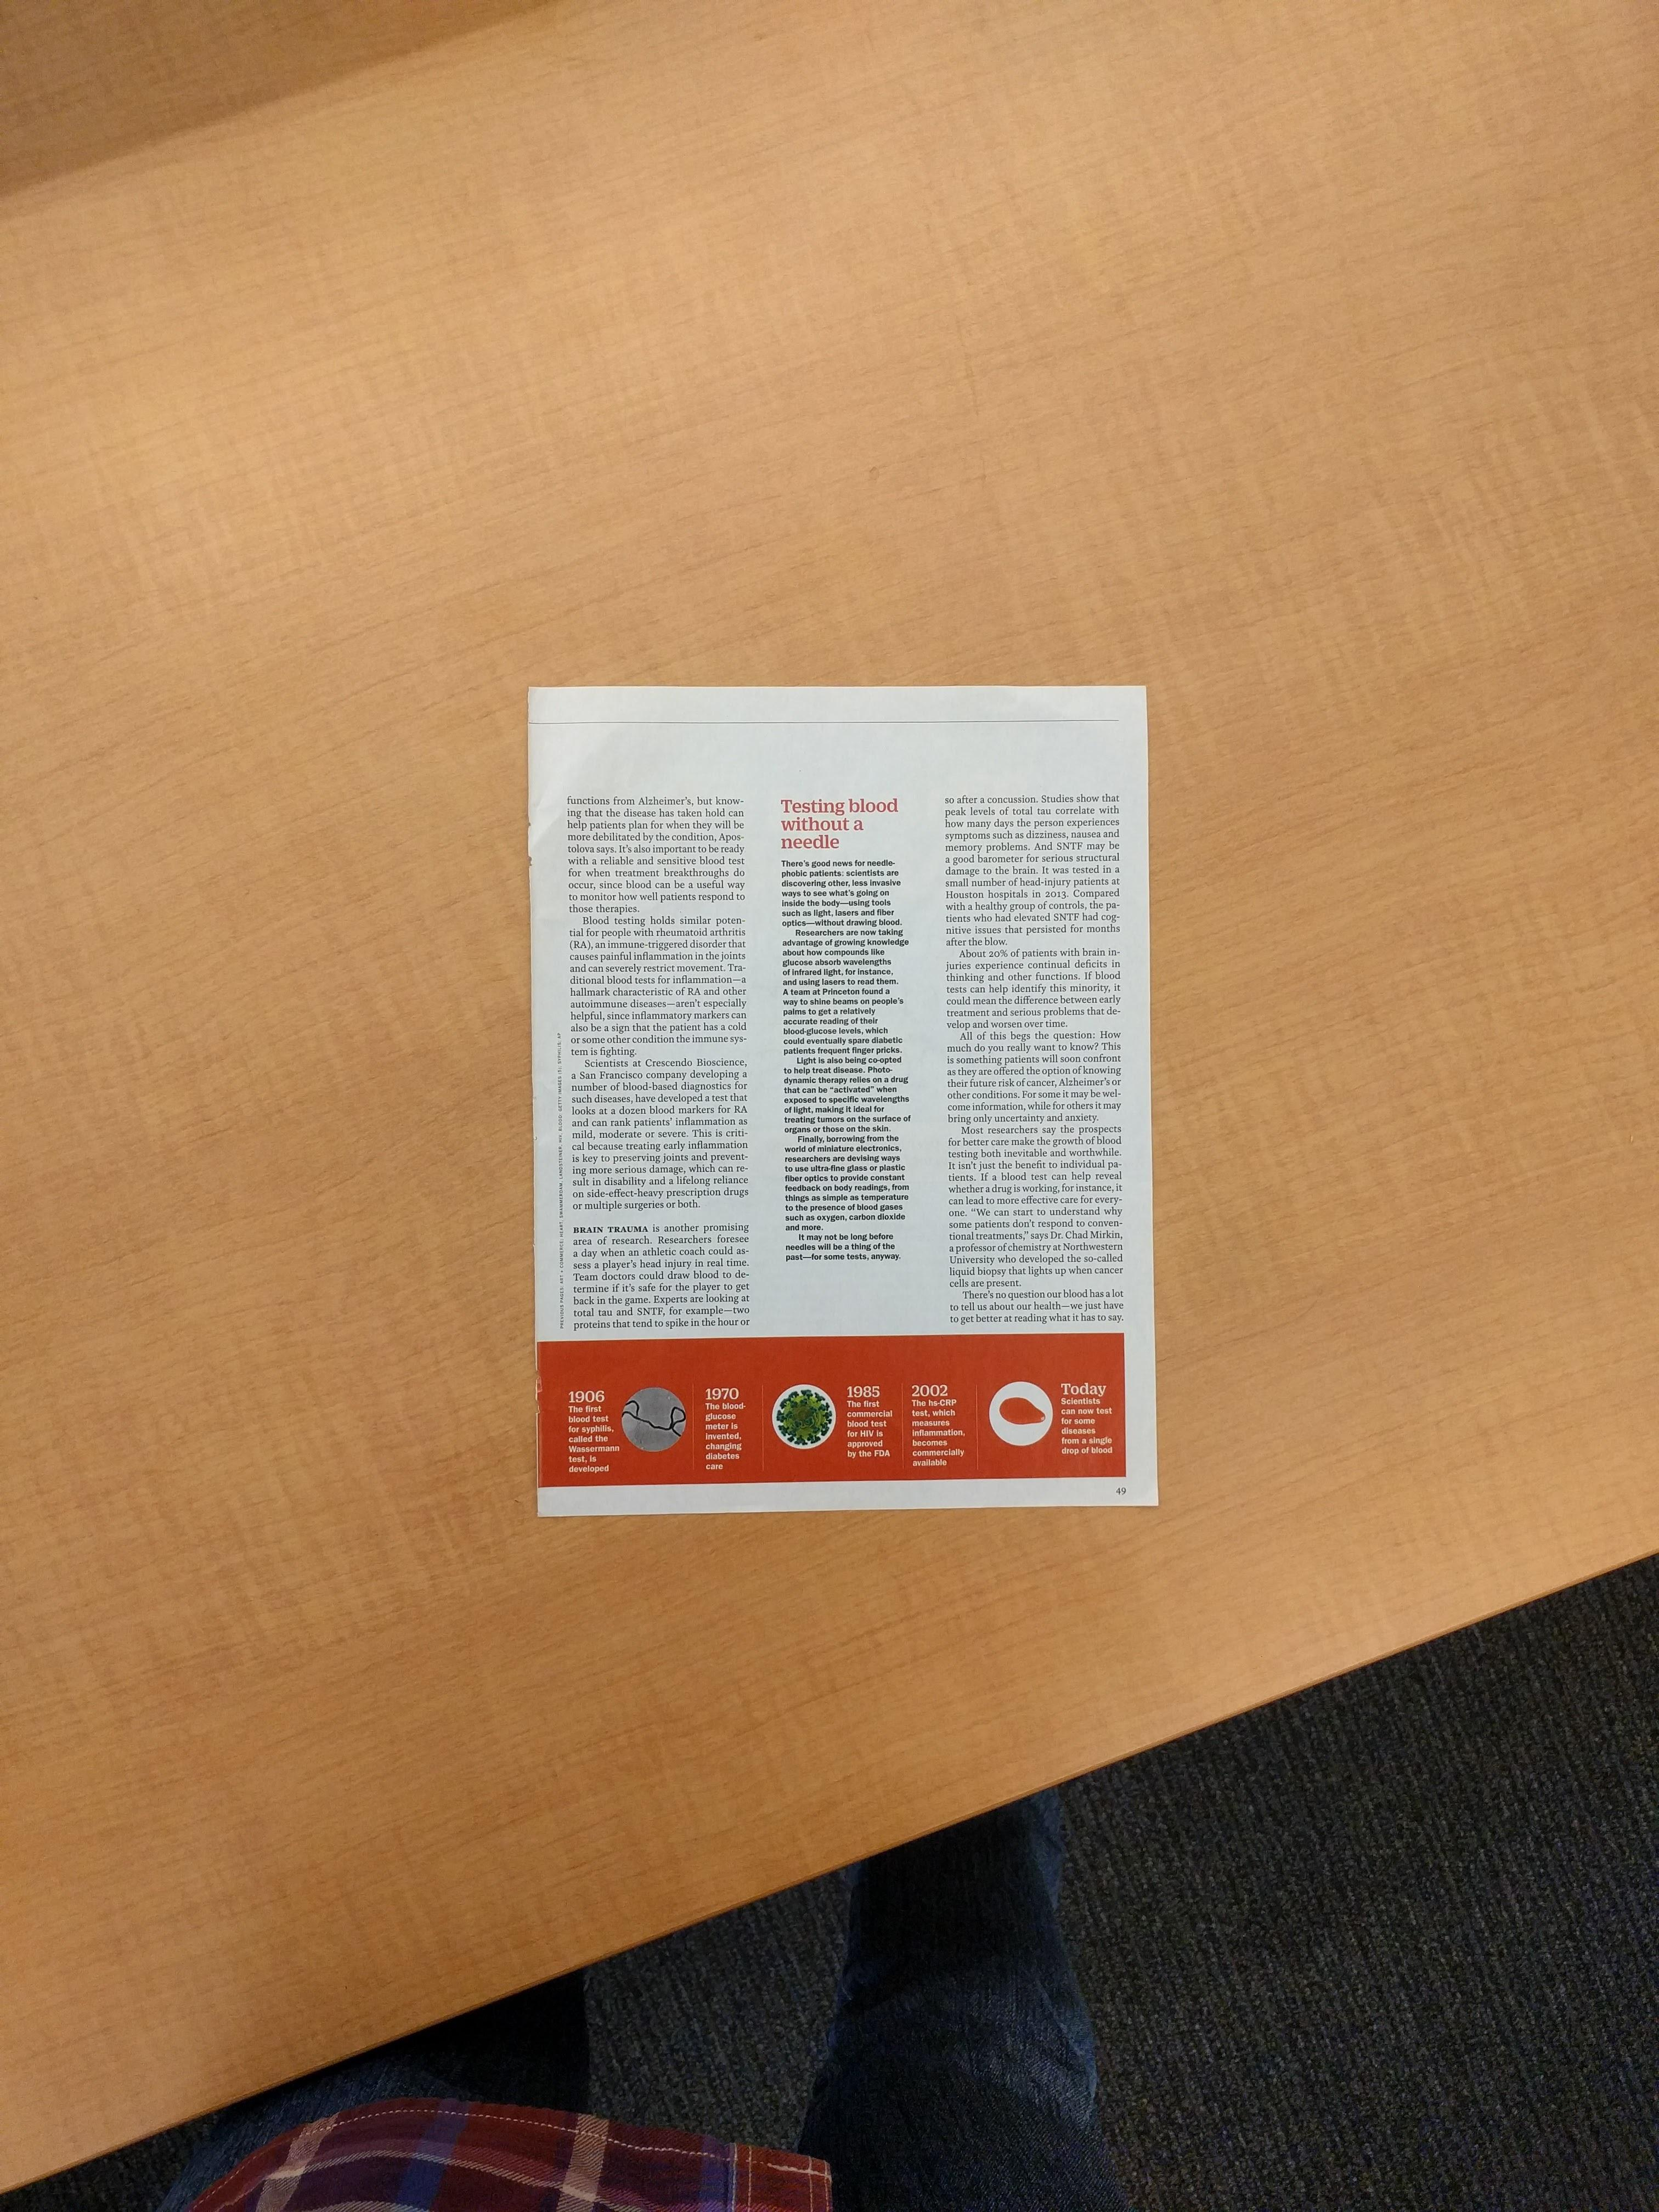paper: (302, 494, 1418, 1674)
